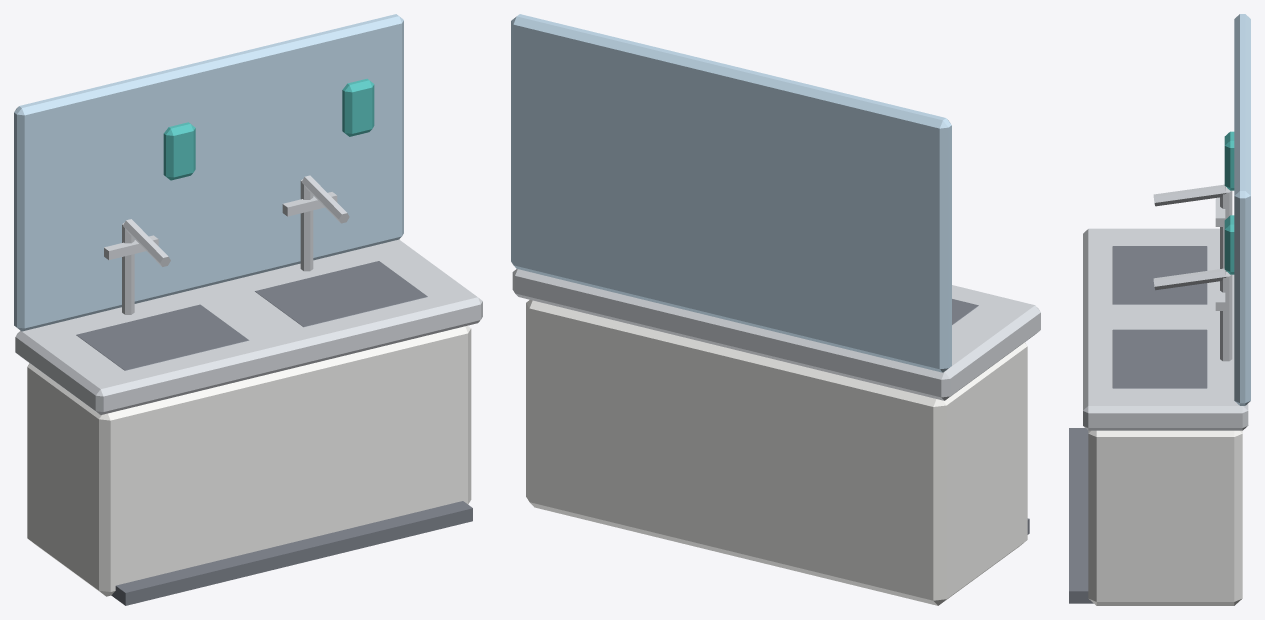
The picture shows the model from 3 angles, left to right: view 1: azimuth 30°, elevation 25°; view 2: azimuth 150°, elevation 25°; view 3: azimuth 270°, elevation 25°; orthographic projection. The views are drawn at different scales.
Visible parts, largest first — view 1: scrub-sink; view 2: scrub-sink; view 3: scrub-sink.
Boxes of the visible parts, left/top/right/bottom form: scrub-sink: left=14, top=14, right=482, bottom=605; scrub-sink: left=511, top=14, right=1040, bottom=605; scrub-sink: left=1069, top=14, right=1250, bottom=605.
Bounding box in the file's own units: 1.56 × 1.68 × 0.66.
